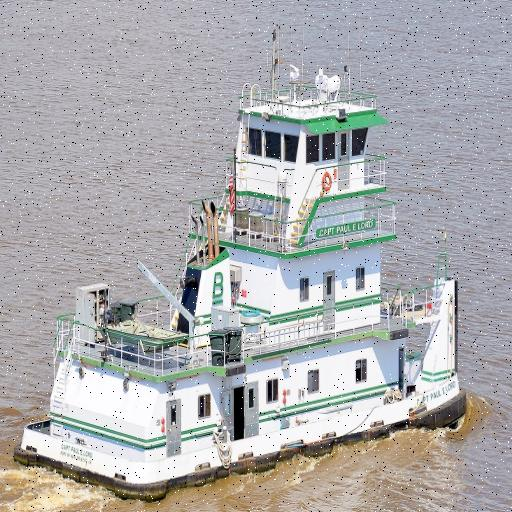tugboat: (10, 9, 477, 512)
